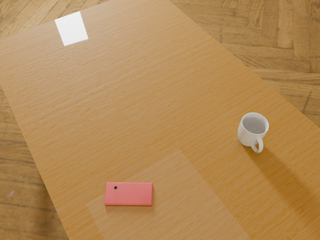cup: (238, 113, 269, 153)
phone: (104, 183, 152, 205)
